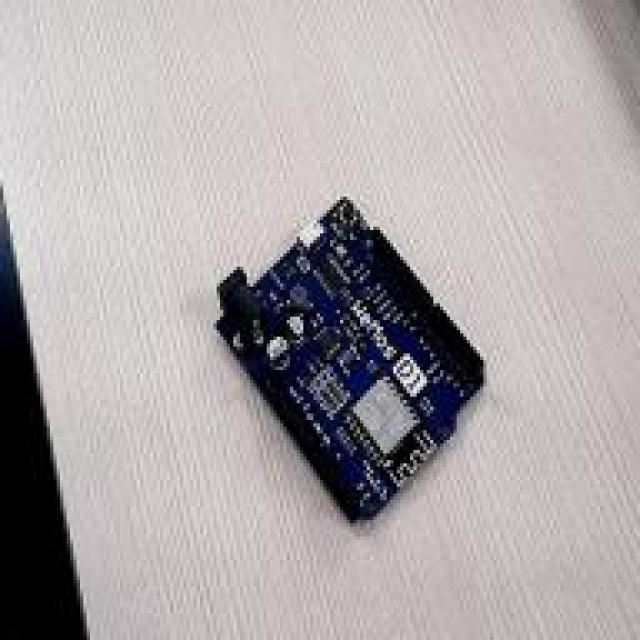Wemos: (218, 198, 481, 518)
